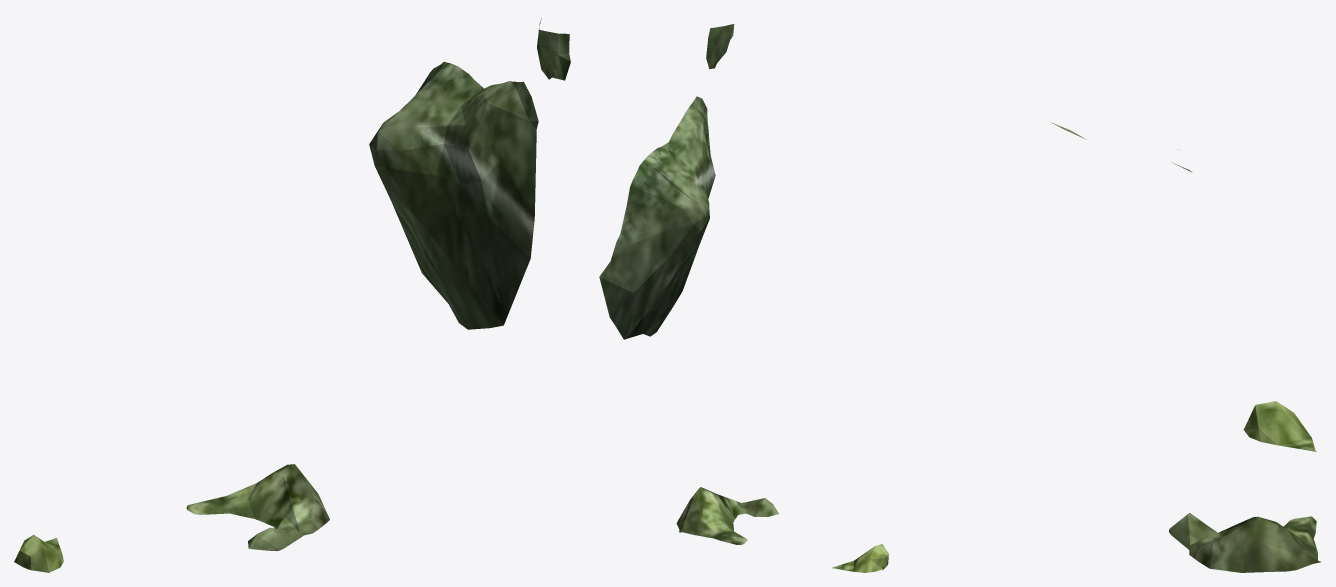
3 views of the same model, side by side, from view 1: azimuth 30°, elevation 25°; view 2: azimuth 150°, elevation 25°; view 3: azimuth 270°, elevation 25° (orthographic). The views are drawn at different scales.
Size of the model in its own units: 2.12 by 2.95 by 1.8.
Materials: 1 (1 with a texture image).
